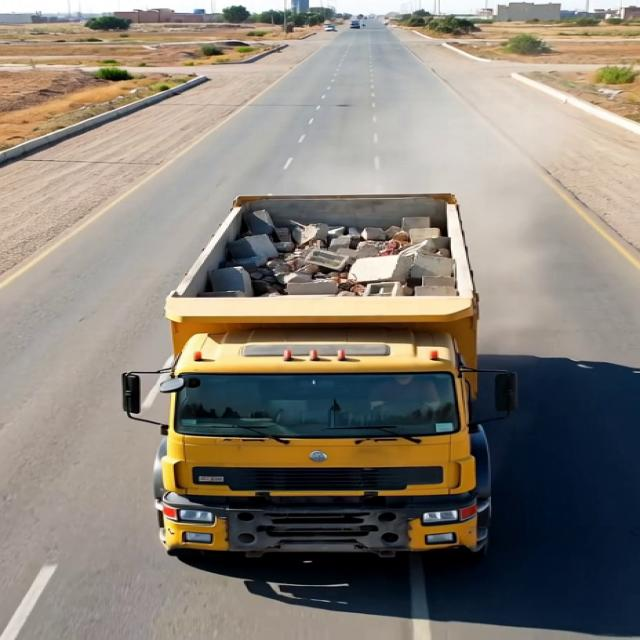trailer: (169, 192, 488, 325)
truck: (124, 182, 525, 562)
